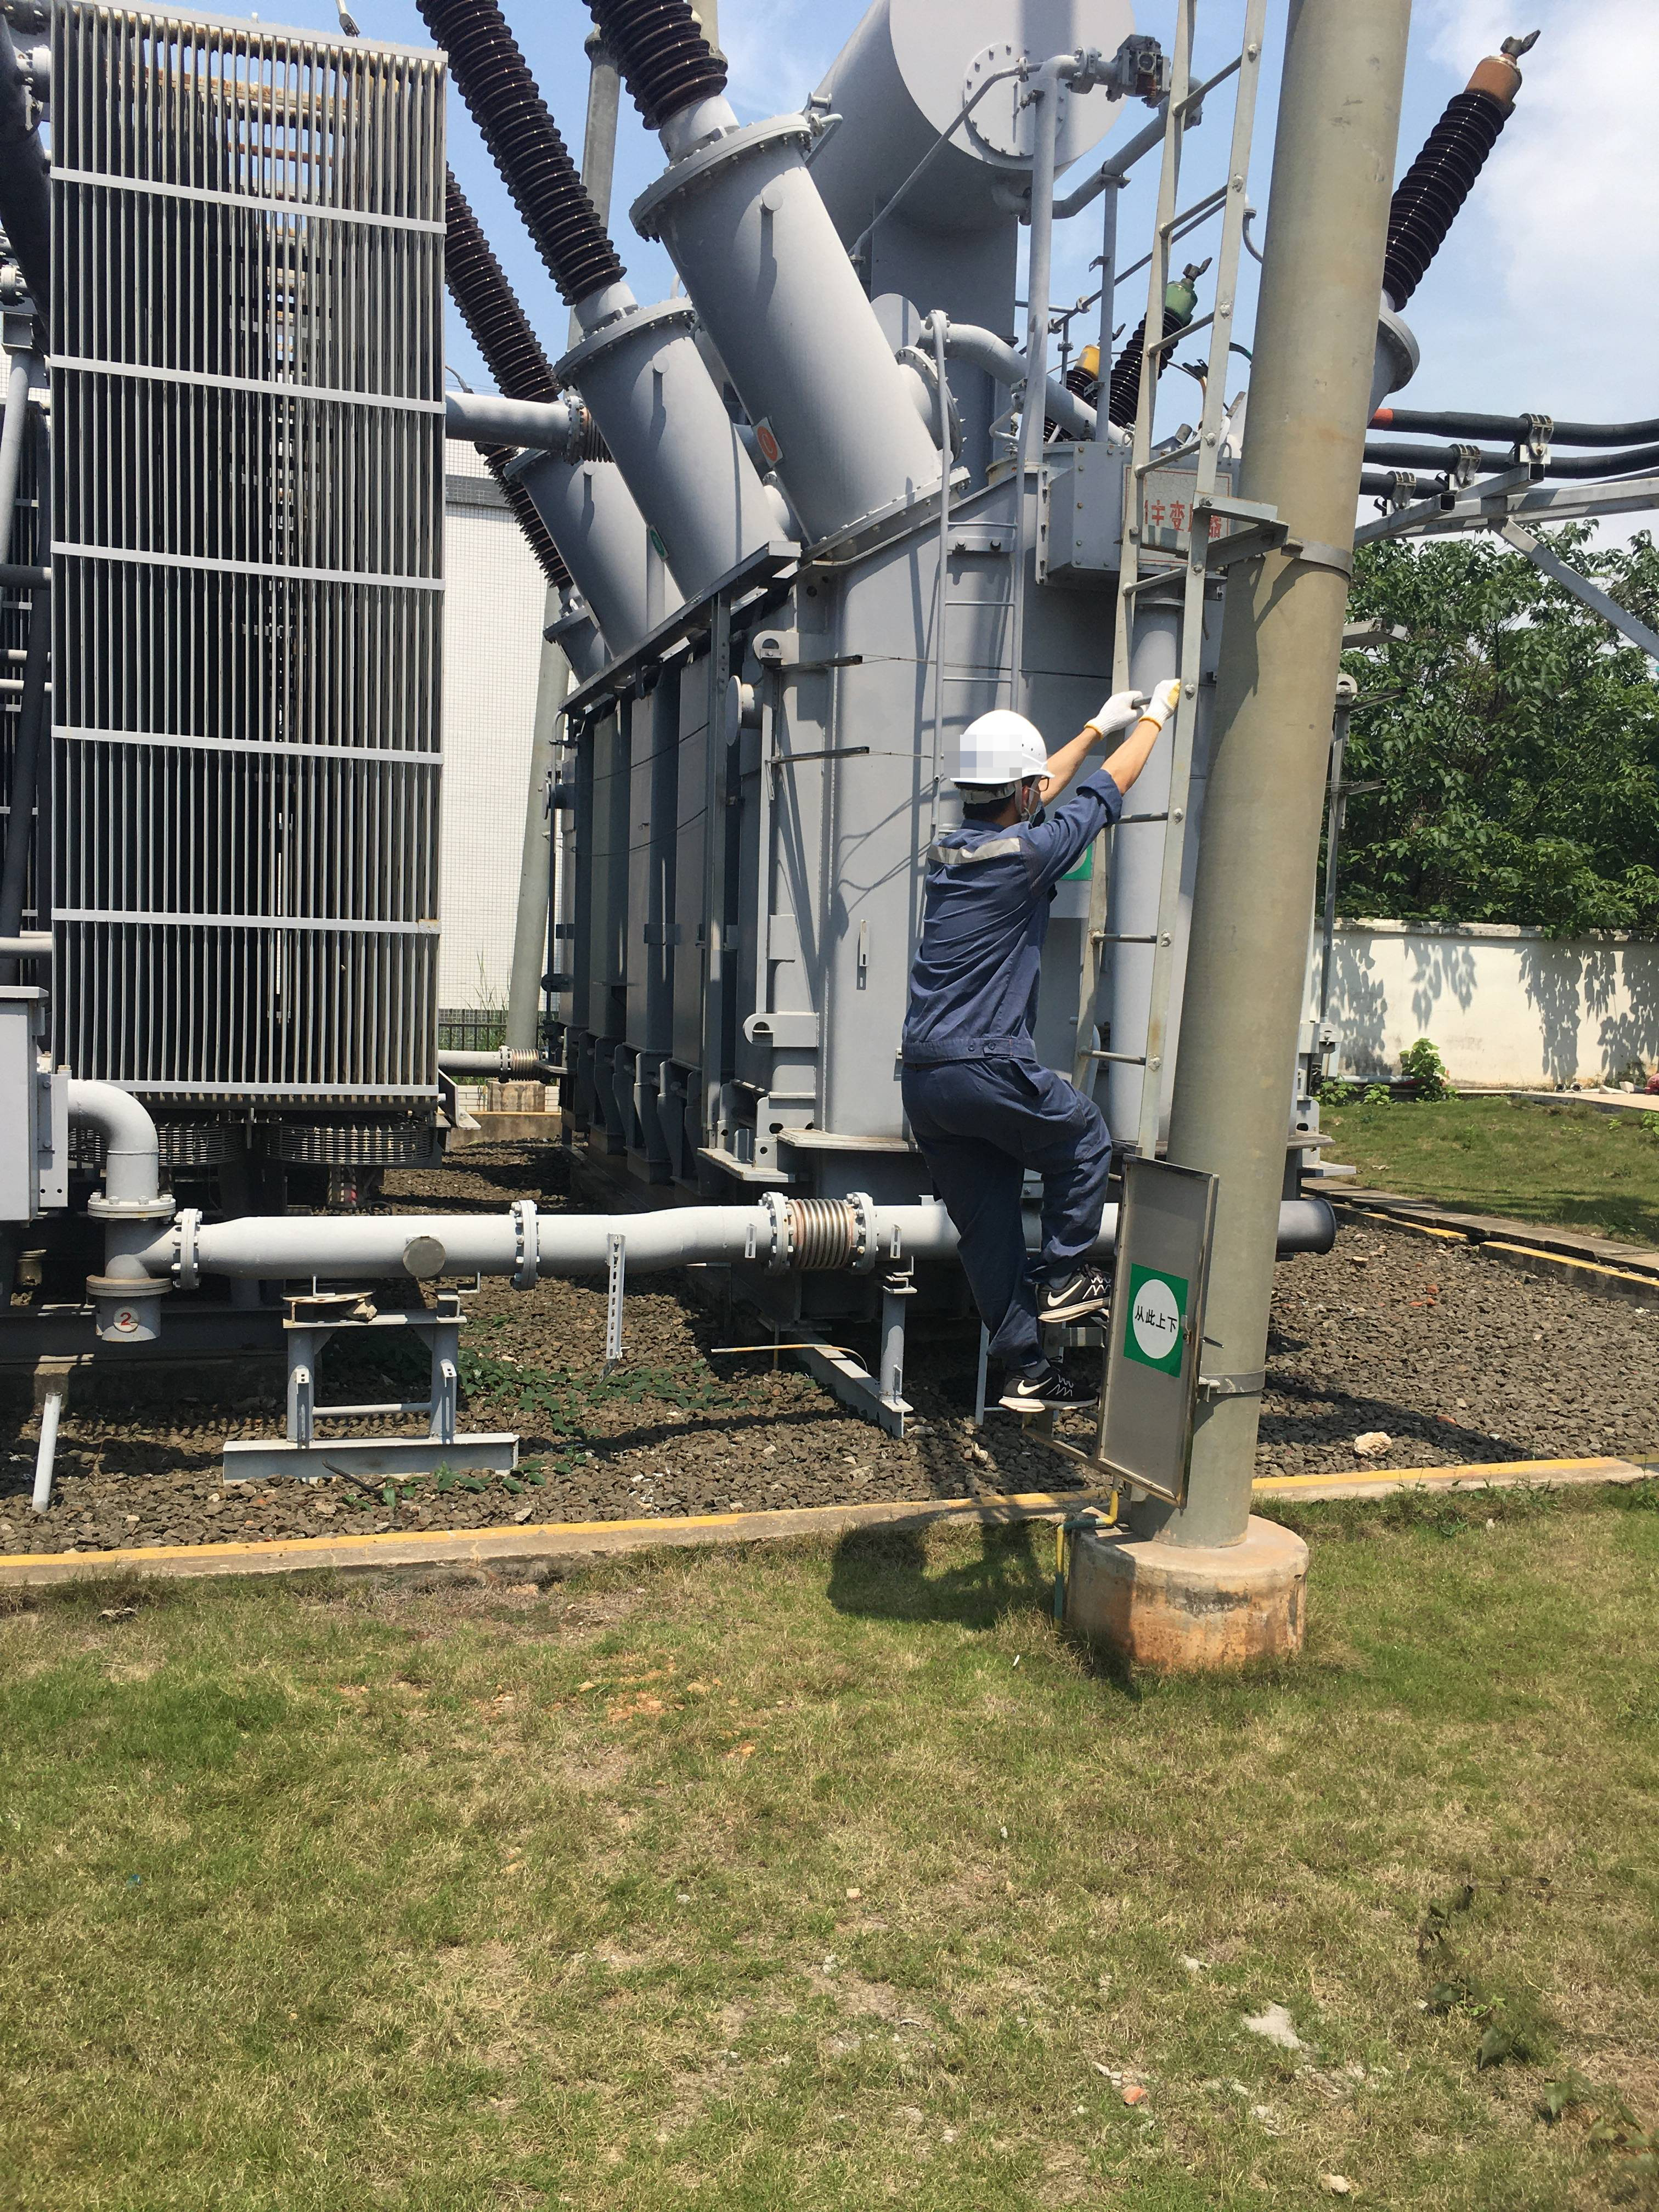downsuit: (897, 1073, 1116, 1363)
halt: (949, 709, 1052, 822)
inear: (1009, 781, 1036, 818)
intosign: (1126, 1262, 1189, 1379)
person: (884, 698, 1156, 1413)
upsuit: (899, 786, 1120, 1056)
wglove: (1072, 678, 1181, 745)
wrongtop: (1036, 716, 1165, 800)
